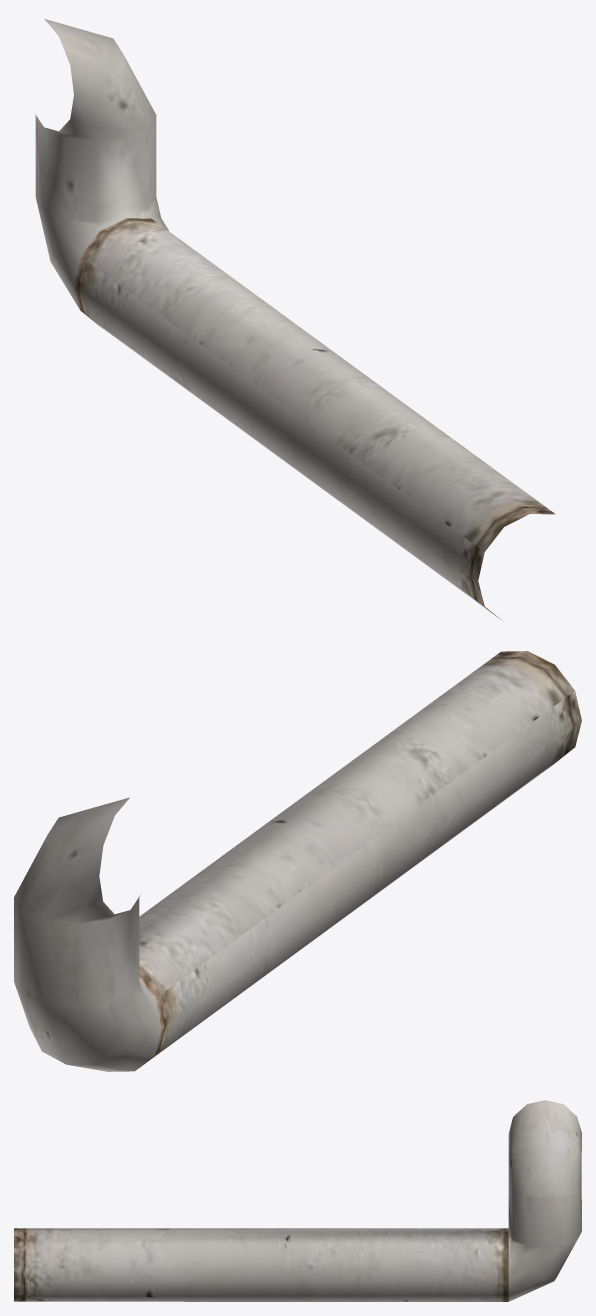
Rendered from pipe03_scurve02_long.glb.
The picture shows the model from 3 angles, top to bottom: view 1: azimuth 30°, elevation 25°; view 2: azimuth 150°, elevation 25°; view 3: azimuth 270°, elevation 25°; orthographic projection. The views are drawn at different scales.
Visible parts, largest first — view 1: 0_pipesystem01a_skin1; view 2: 0_pipesystem01a_skin1; view 3: 0_pipesystem01a_skin1.
Part boxes in pixels (box(x1,y1,x2,y2)): 0_pipesystem01a_skin1: box(35, 18, 555, 619); 0_pipesystem01a_skin1: box(14, 651, 581, 1071); 0_pipesystem01a_skin1: box(14, 1100, 581, 1301).
Bounding box in the file's own units: 0.4127 × 1.14 × 3.2.
Materials: 1 (1 with a texture image).
